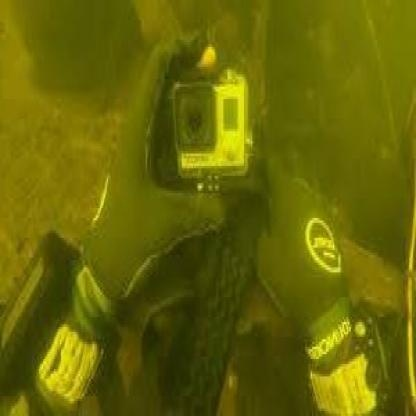electronics: (169, 67, 259, 198)
